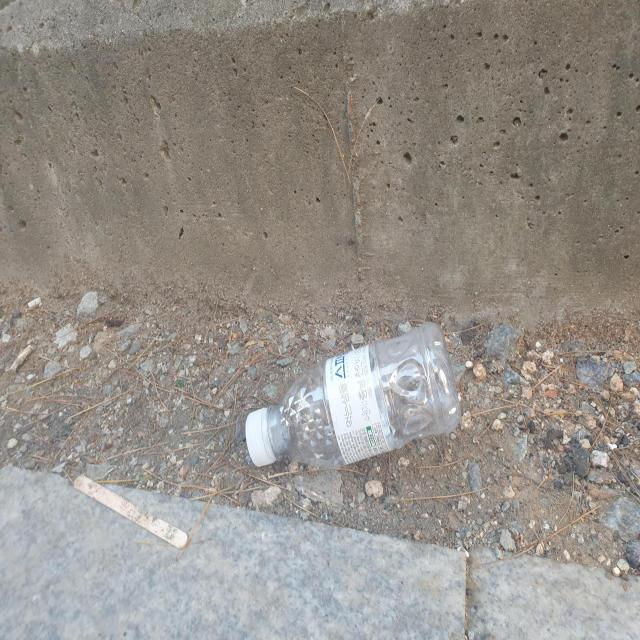plastic: (246, 322, 461, 468)
